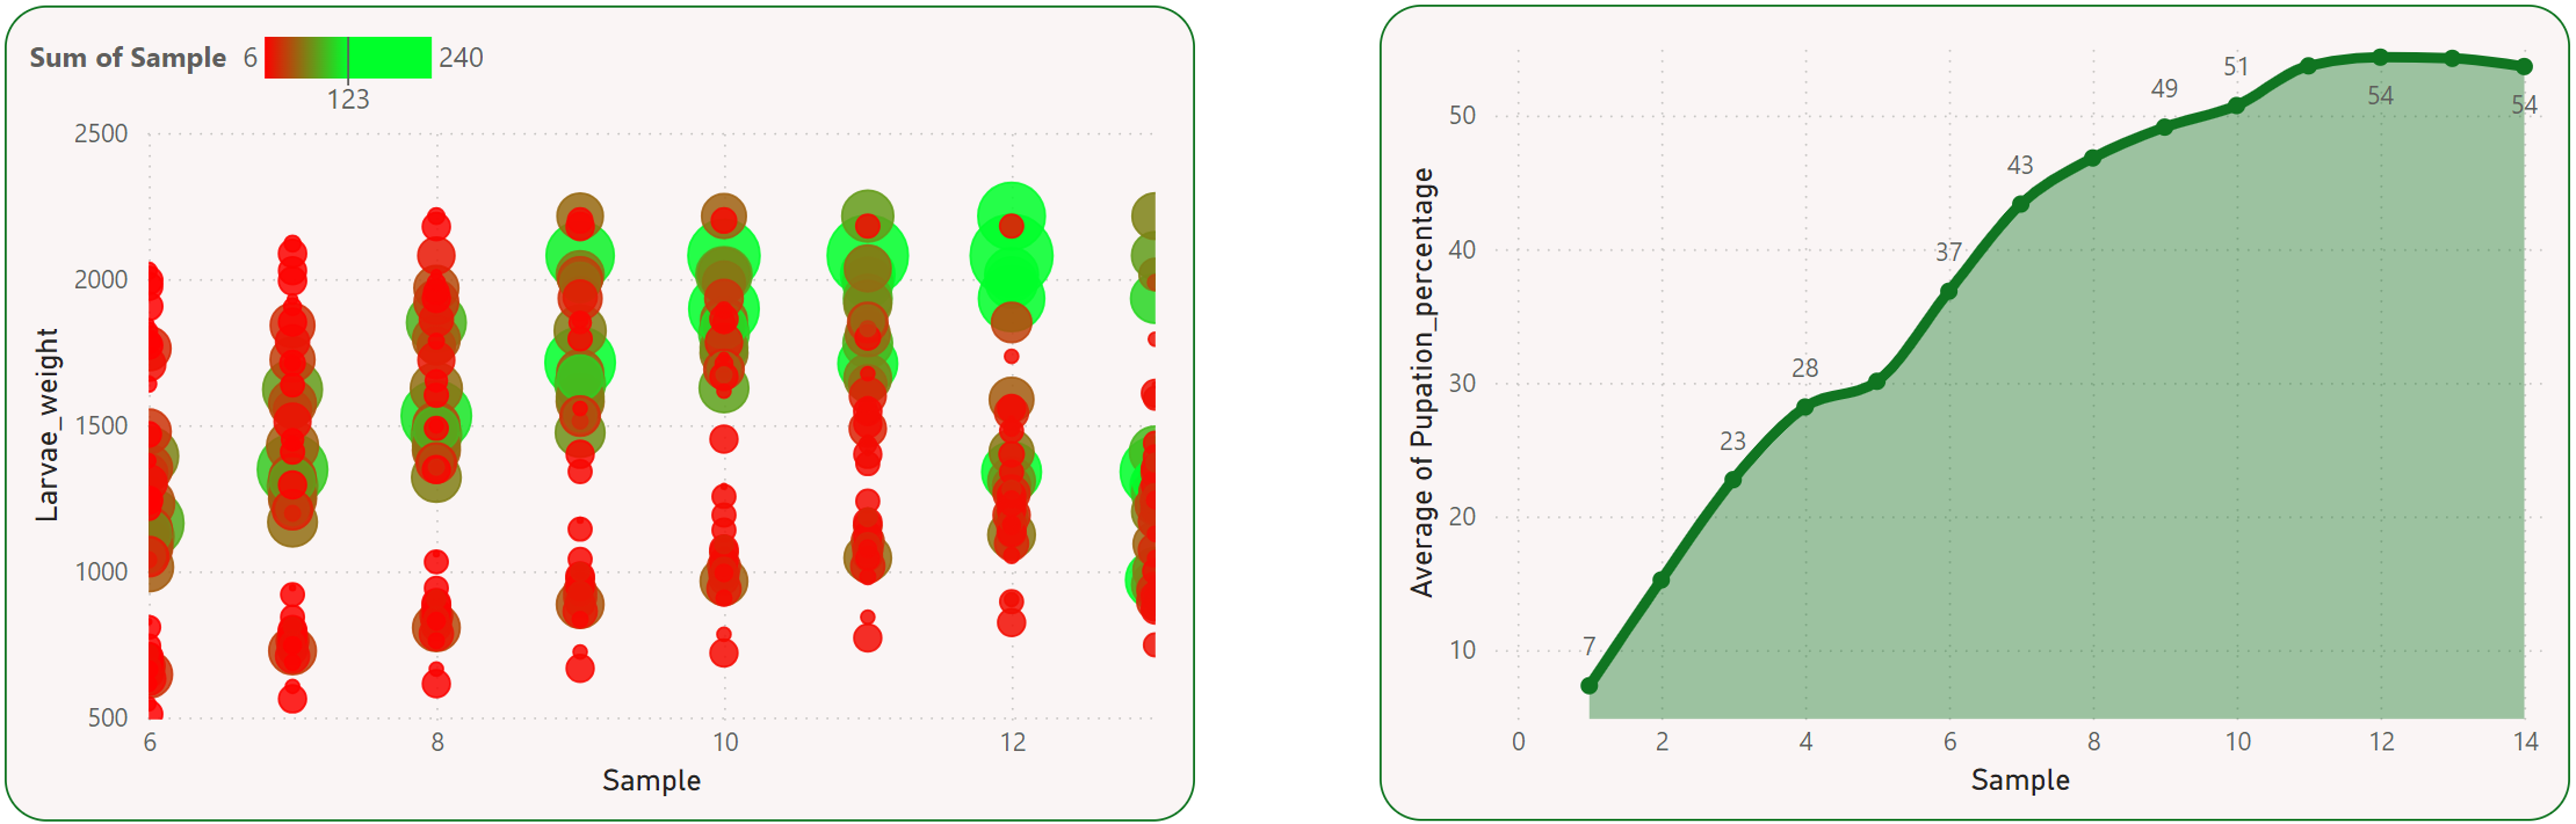

What the dashboard file says about the page in this screenshot:
{"tool":"powerbi","page":{"name":"Page 1","canvas":[1280,720],"ordinal":0},"visuals":[{"type":"scatterChart","fields":{"X":["forecasting_data_training.Sample"],"Y":["forecasting_data_training.Larvae_weight"],"Size":["forecasting_data_training.Pupation_Percentage_for_Day_14"]},"box":[6.8,102.1,619.6,428.9],"z":0},{"type":"lineChart","fields":{"Category":["forecasting_data_training.Sample"],"Y":["forecasting_data_training.Pupation_percentage"]},"box":[640,102.1,640,391],"z":1000}]}

Visuals, with their boxes on the page's 1280x720 design canvas (x1, y1, x2, y2). These are canvas units, not pixel positions in the 2576x824 screenshot, which may show the page scaled, cropped or inside an application window:
scatterChart - forecasting_data_training.Sample x forecasting_data_training.Larvae_weight: 7,102,626,531
lineChart - forecasting_data_training.Sample x forecasting_data_training.Pupation_percentage: 640,102,1280,493
